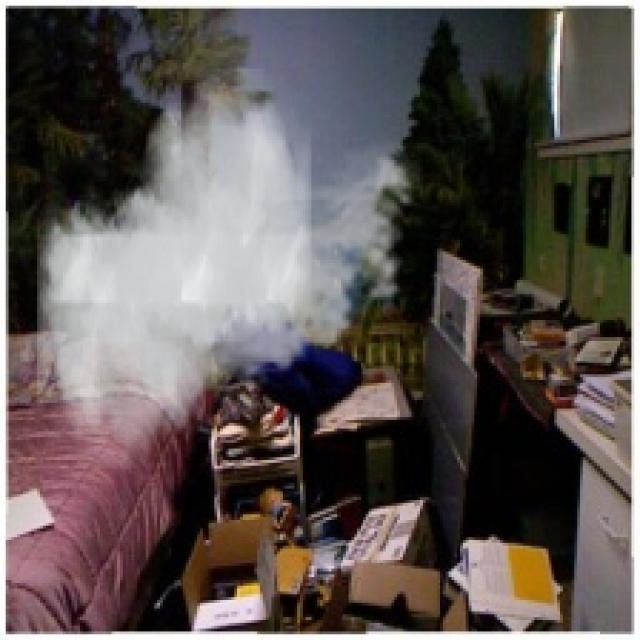Smoke: (37, 69, 426, 468)
